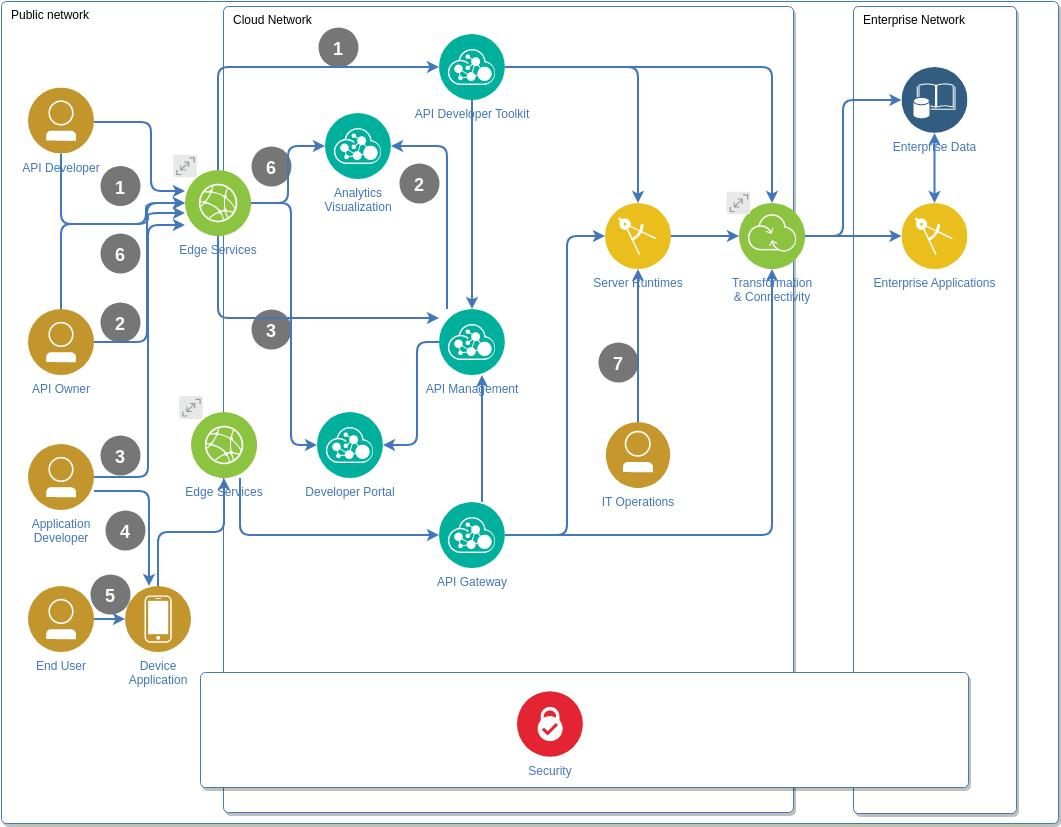API Gateway: (446, 506, 504, 574), (446, 311, 503, 378), (332, 117, 380, 176), (457, 36, 496, 99)
Backend: (898, 203, 978, 278), (594, 200, 667, 263)
Database: (904, 59, 966, 133)
Firewall: (513, 698, 577, 757)
Frontend: (190, 171, 241, 233), (202, 418, 250, 476)
Networking: (740, 200, 800, 266)
User: (36, 587, 82, 660), (33, 312, 87, 370), (616, 423, 662, 490), (40, 440, 80, 511), (36, 91, 79, 146), (140, 591, 176, 650)
